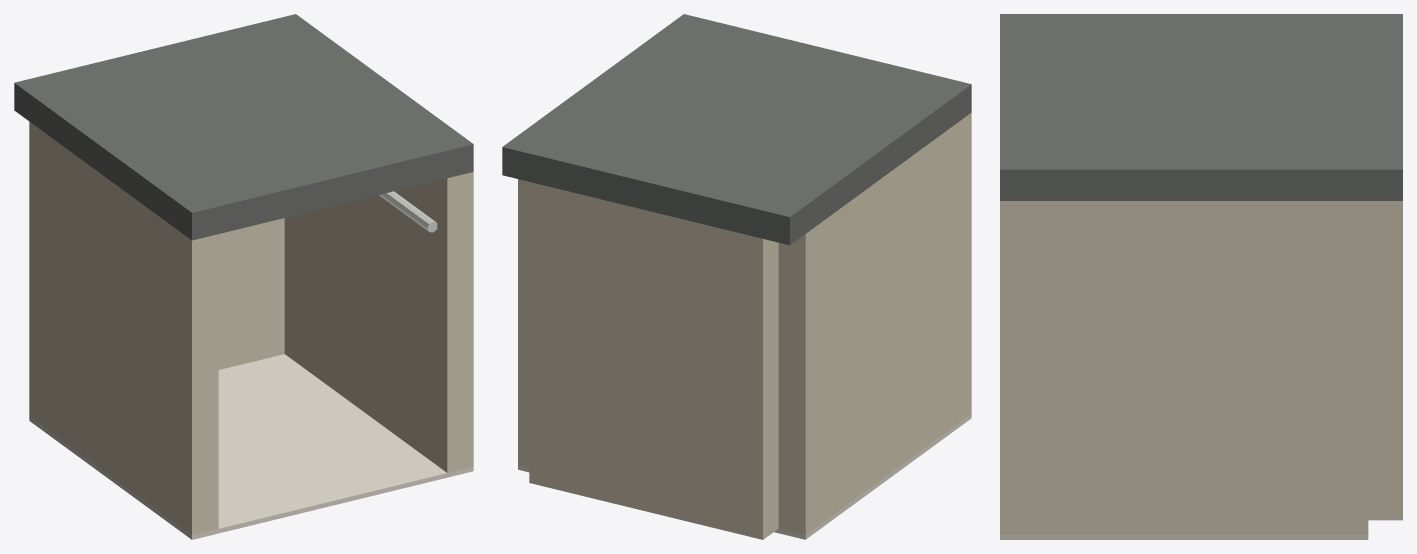
Rendered from lab_corridor.glb.
3 renders of one model, left to right at view 1: azimuth 30°, elevation 25°; view 2: azimuth 150°, elevation 25°; view 3: azimuth 270°, elevation 25°, orthographic. The views are drawn at different scales.
Parts seen in each view (by area): view 1: lab_corridor; view 2: lab_corridor; view 3: lab_corridor.
Boxes of the visible parts, x1,y1,x2,y2 form: lab_corridor: [14, 14, 473, 539]; lab_corridor: [502, 14, 971, 539]; lab_corridor: [1000, 14, 1402, 539].
Bounding box in the file's own units: 3.2 × 3.55 × 3.5.
